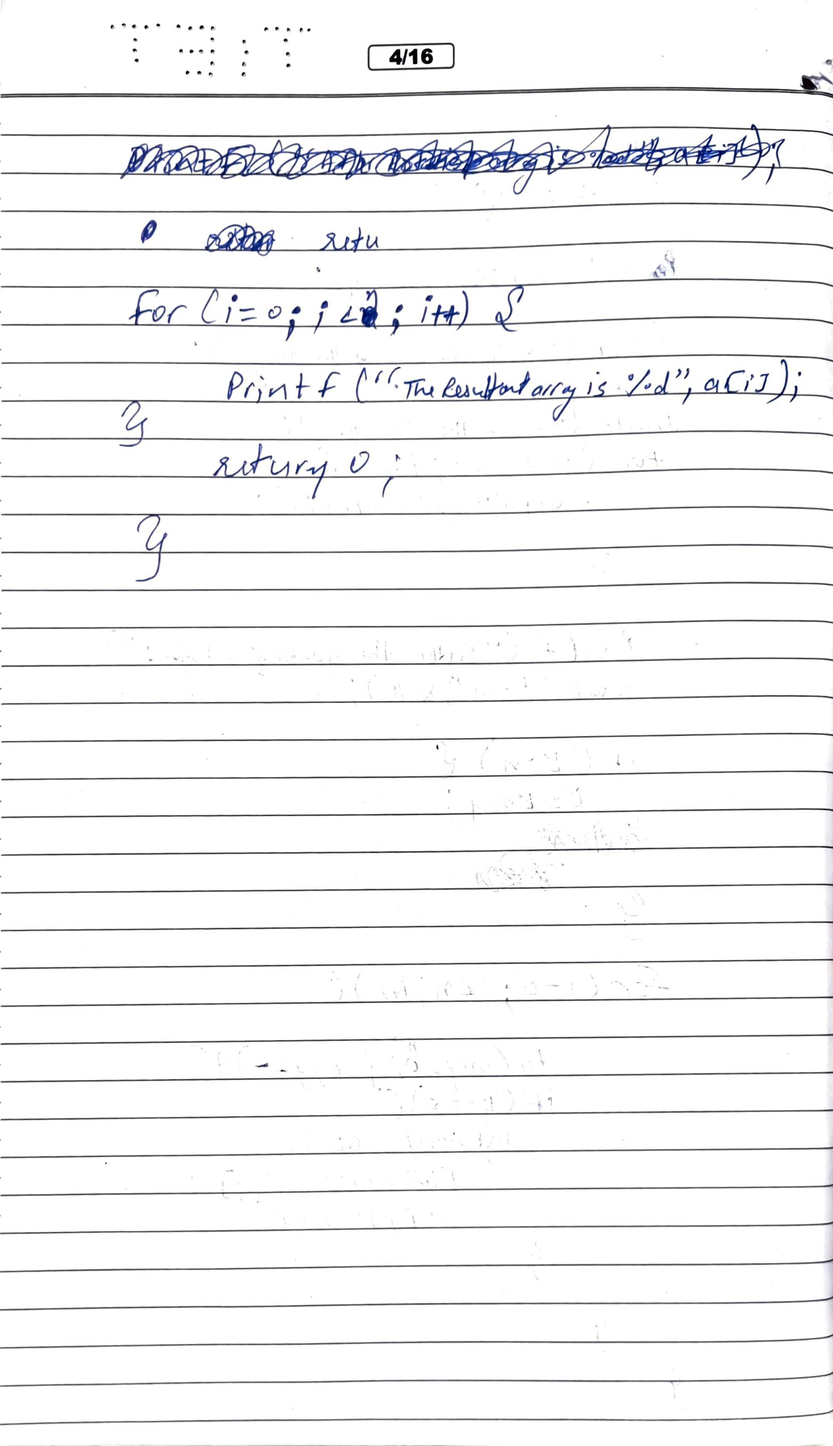cuttings: (117, 120, 790, 196), (202, 217, 280, 260), (136, 211, 164, 246), (359, 306, 381, 332)
